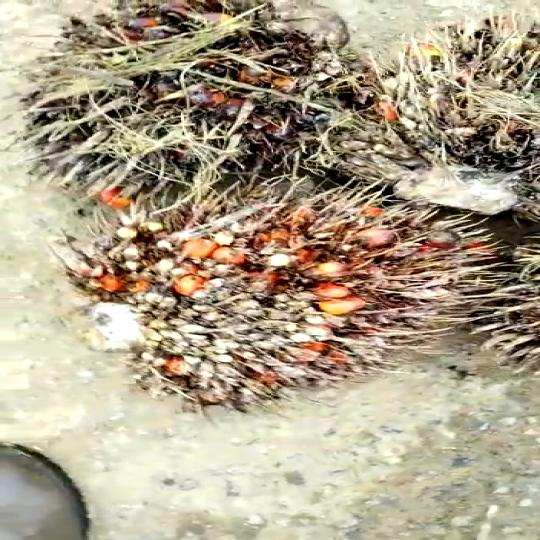terlalu masak: (80, 194, 457, 413), (10, 0, 391, 188)
